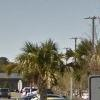Tree: (16, 30, 70, 97)
